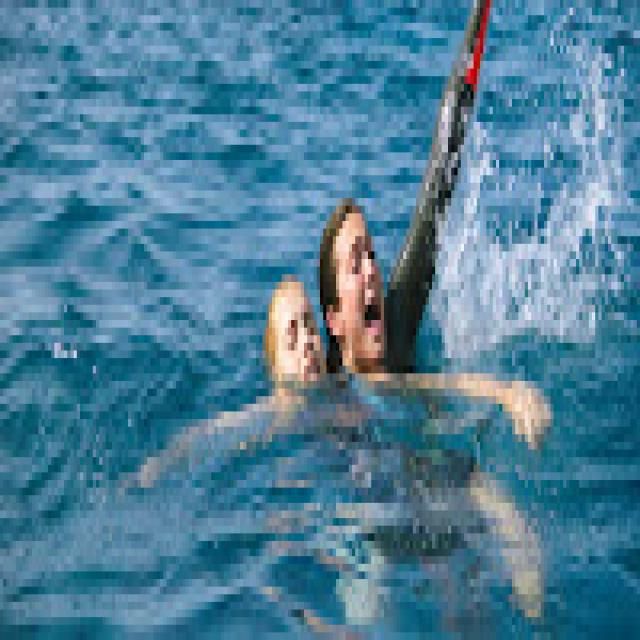drowning: (320, 0, 532, 370)
